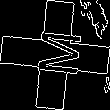M_W: (28, 30, 82, 80)
